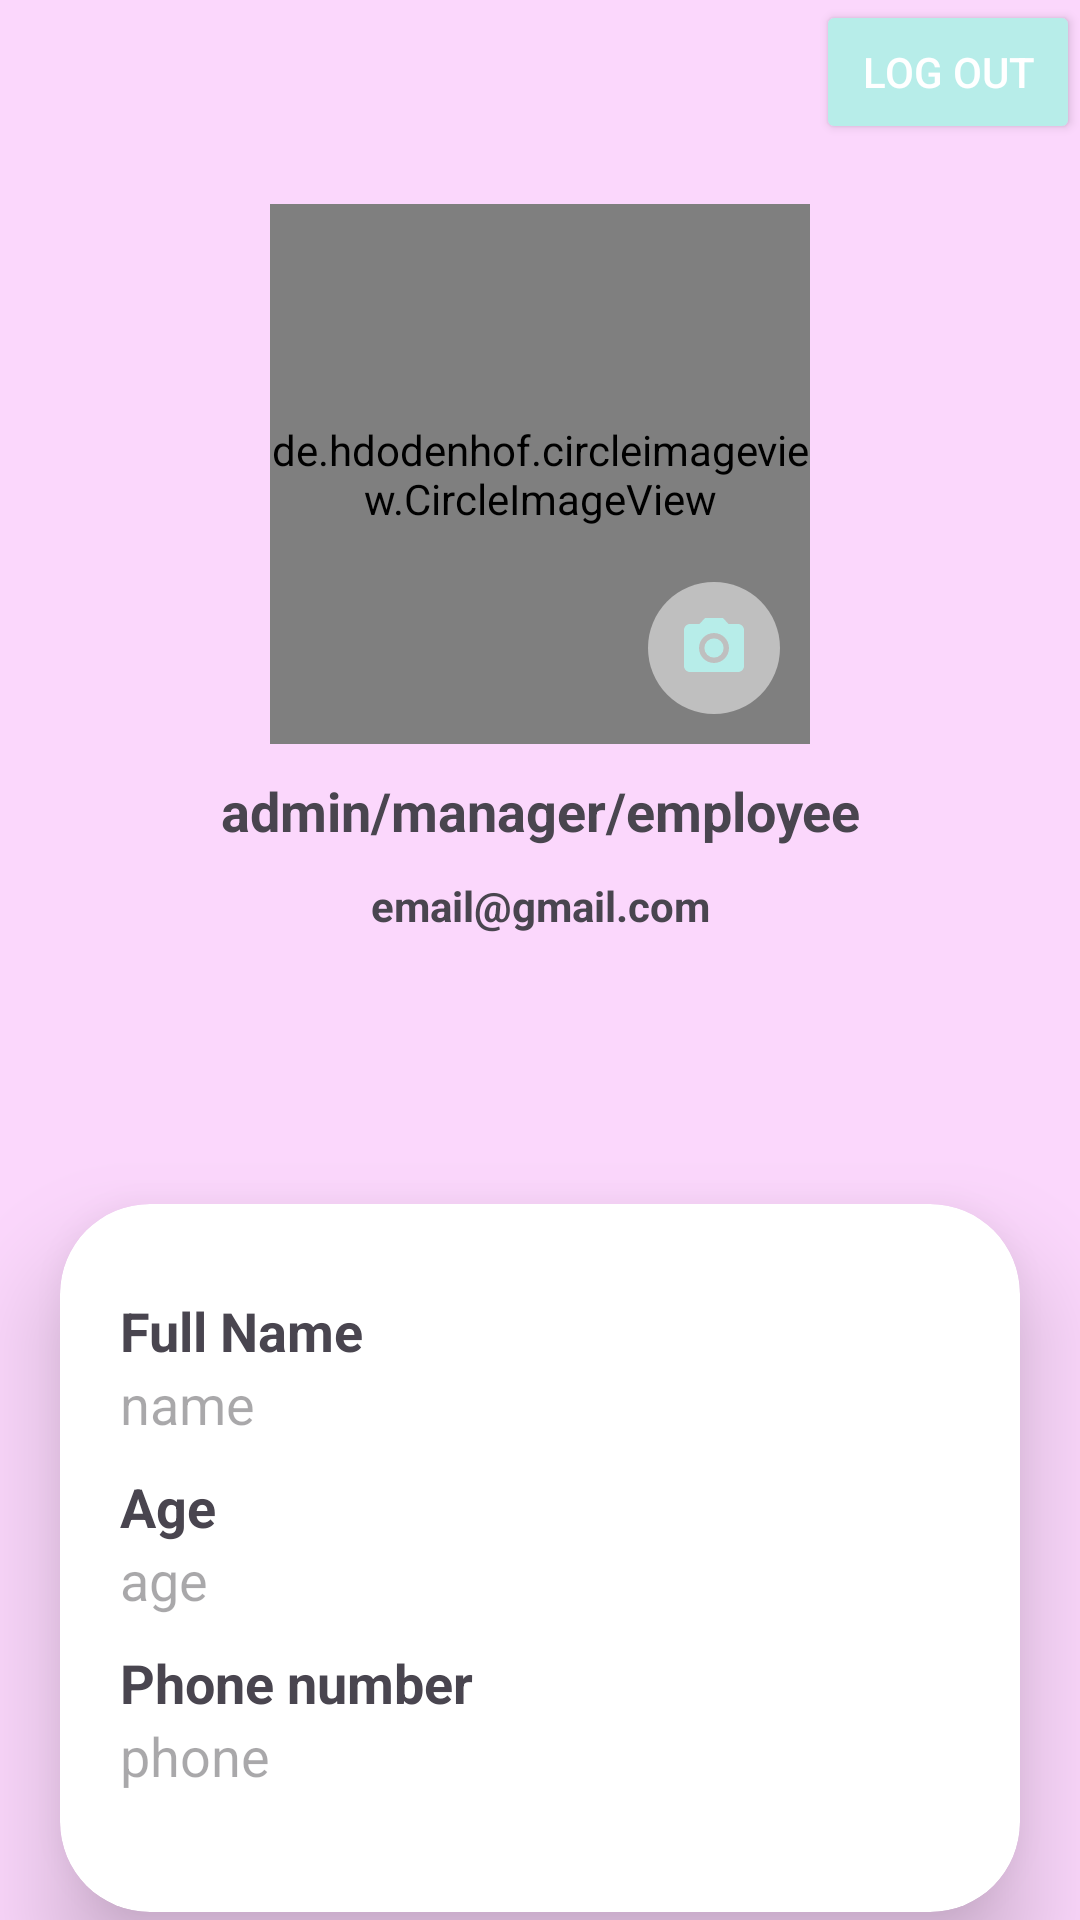

Screen size 1080x1920. Icon name, then its center in pixels as (x,y):
photo camera: (714,648)
